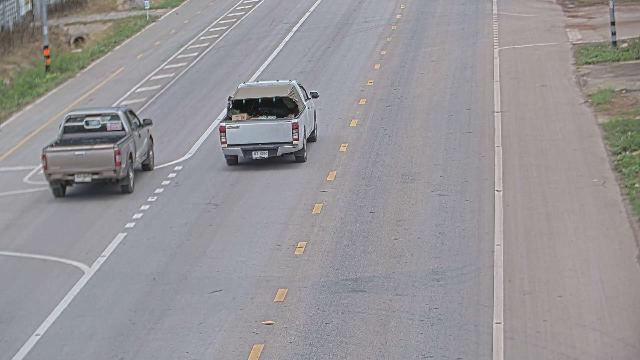pickup-truck: (40, 105, 155, 198), (218, 78, 319, 166)
